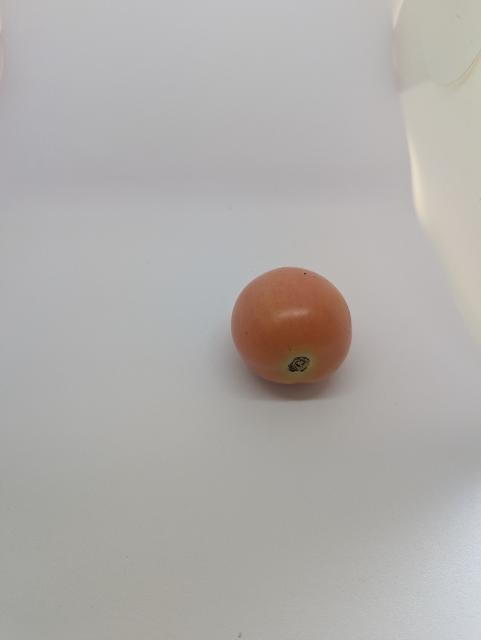turning: (226, 256, 362, 394)
